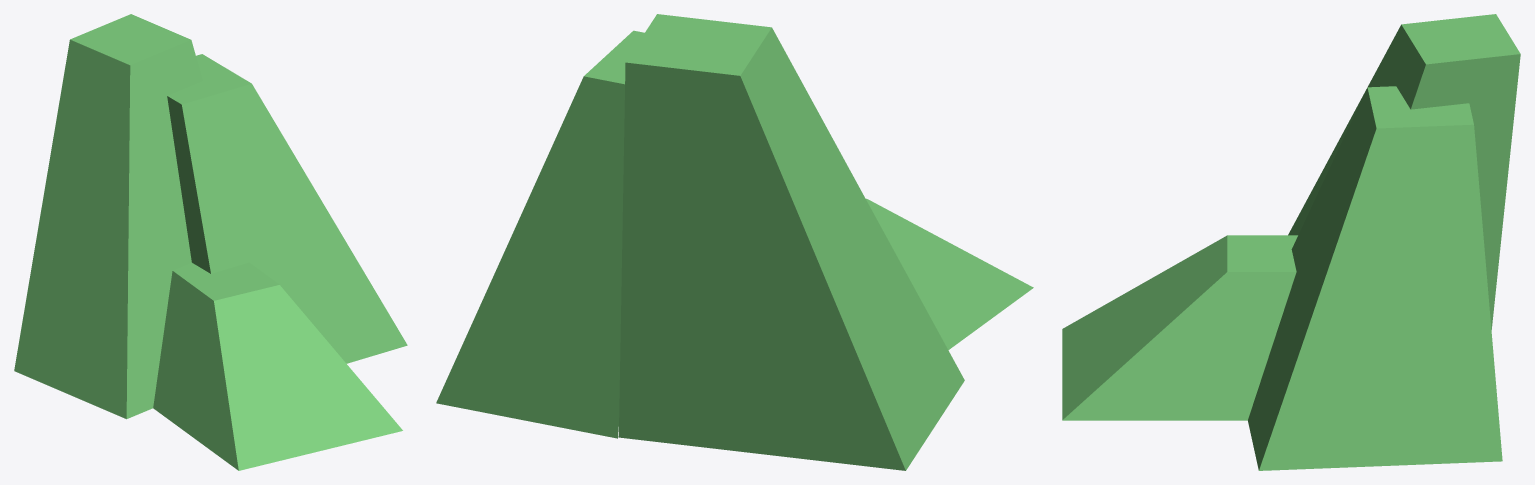
Rendered from x_skala_dont_crash_85.fbx.
3 renders of one model, left to right at view 1: azimuth 30°, elevation 25°; view 2: azimuth 150°, elevation 25°; view 3: azimuth 270°, elevation 25°, orthographic. The views are drawn at different scales.
Visible parts, largest first — view 1: x_skala_dont_crash_85_1; view 2: x_skala_dont_crash_85_1; view 3: x_skala_dont_crash_85_1.
Boxes of the visible parts, left/top/right/bottom form: x_skala_dont_crash_85_1: left=14, top=14, right=407, bottom=470; x_skala_dont_crash_85_1: left=436, top=14, right=1033, bottom=470; x_skala_dont_crash_85_1: left=1062, top=14, right=1520, bottom=470.
Bounding box in the file's own units: 5.8 × 4.95 × 6.29.
